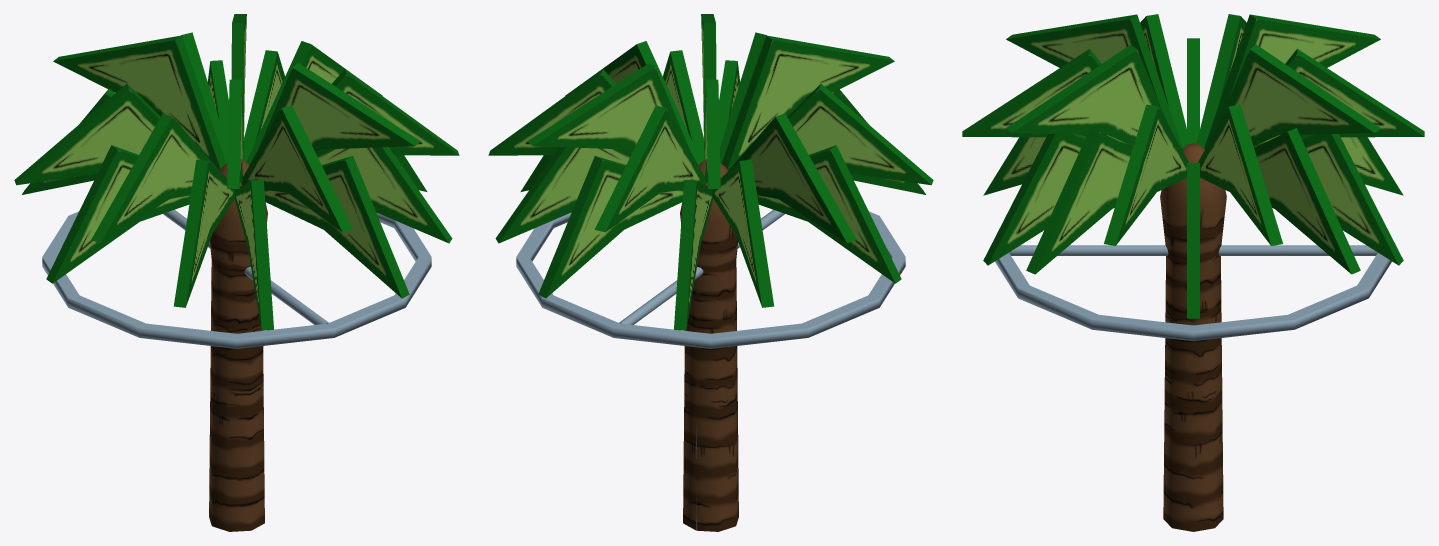
Rendered from Palmtree_Rack.fbx.
3 renders of one model, left to right at view 1: azimuth 30°, elevation 25°; view 2: azimuth 150°, elevation 25°; view 3: azimuth 270°, elevation 25°, orthographic. The views are drawn at different scales.
Visible parts, largest first — view 1: palmtree_low, ring_low; view 2: palmtree_low, ring_low; view 3: palmtree_low, ring_low.
Boxes of the visible parts, <box> form: palmtree_low: <box>14,14,459,531</box>; ring_low: <box>42,209,431,348</box>; palmtree_low: <box>488,14,933,531</box>; ring_low: <box>516,209,905,348</box>; palmtree_low: <box>962,14,1424,531</box>; ring_low: <box>995,245,1391,341</box>.
Bounding box in the file's own units: 348 × 415 × 357.
